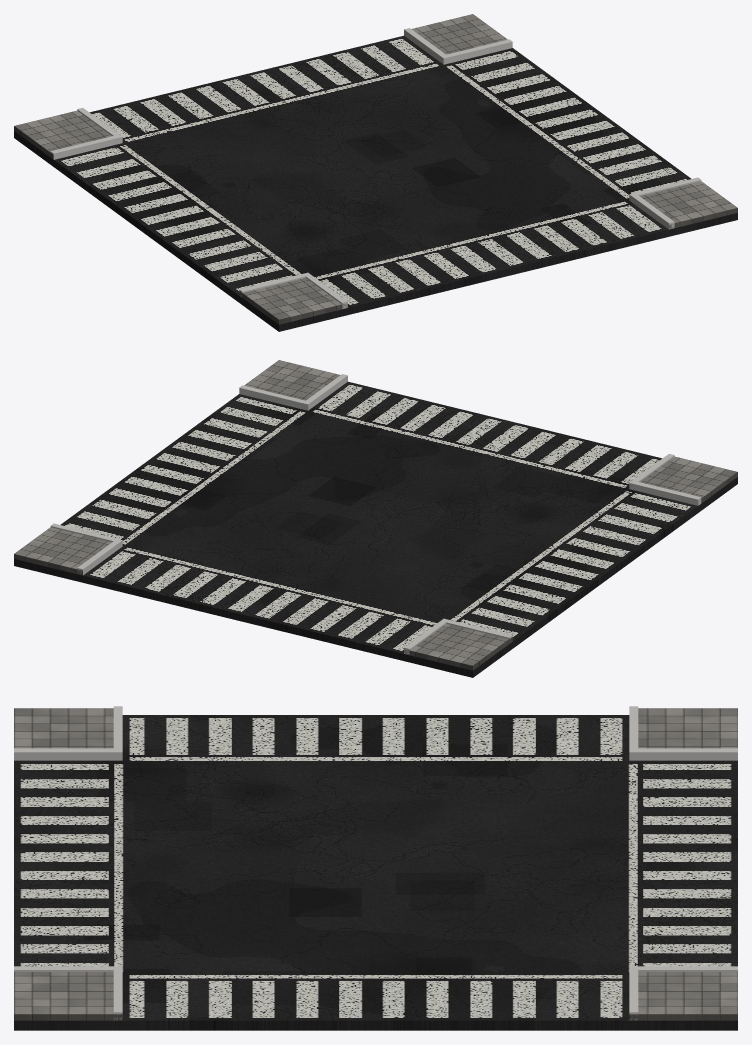
The model's file is intersection.glb.
3 renders of one model, top to bottom at view 1: azimuth 30°, elevation 25°; view 2: azimuth 150°, elevation 25°; view 3: azimuth 270°, elevation 25°, orthographic. The views are drawn at different scales.
Visible parts, largest first — view 1: Junction_Surface, Corners; view 2: Junction_Surface, Corners; view 3: Junction_Surface, Corners.
Boxes of the visible parts, x1,y1,x2,y2 form: Junction_Surface: (14, 35, 737, 331); Corners: (14, 14, 737, 324); Junction_Surface: (14, 381, 737, 677); Corners: (14, 360, 737, 670); Junction_Surface: (14, 715, 737, 1030); Corners: (14, 706, 737, 1020).
Bounding box in the file's own units: 20 × 0.56 × 20.
3 materials, 2 textured.
